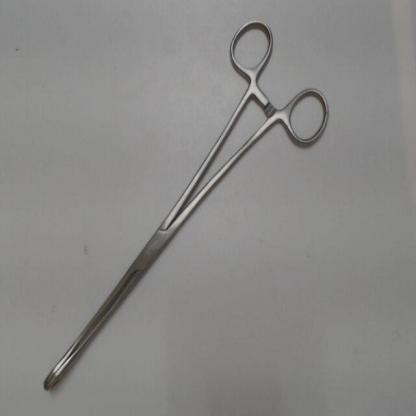Sponge Forceps: (34, 12, 338, 402)
